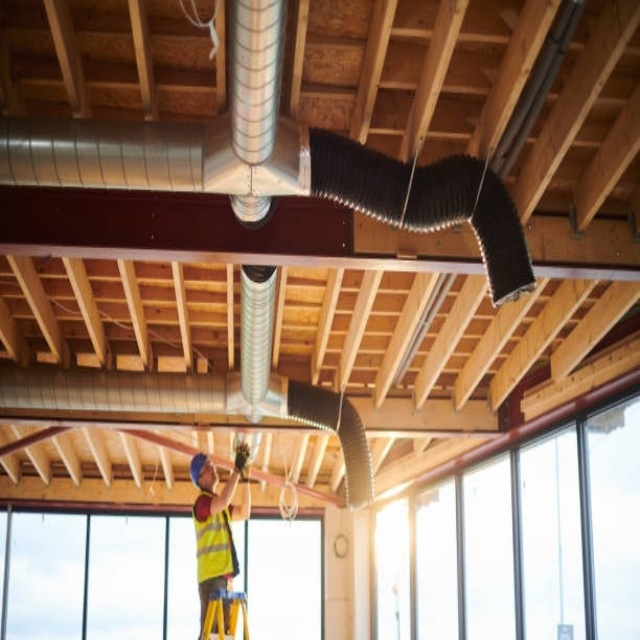Guantes: (234, 439, 253, 475)
